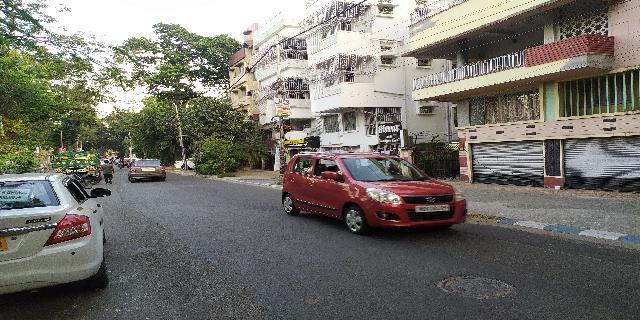Car: (272, 146, 469, 237), (1, 171, 111, 292), (121, 156, 170, 183)
